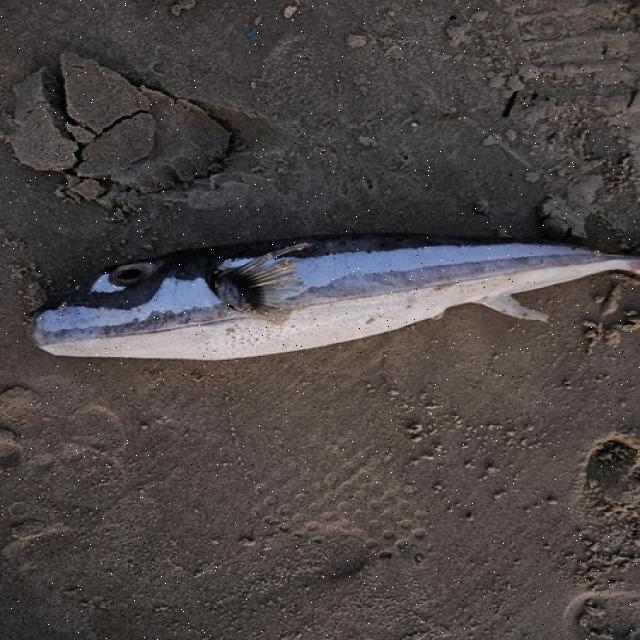Balik: (33, 235, 639, 359)
